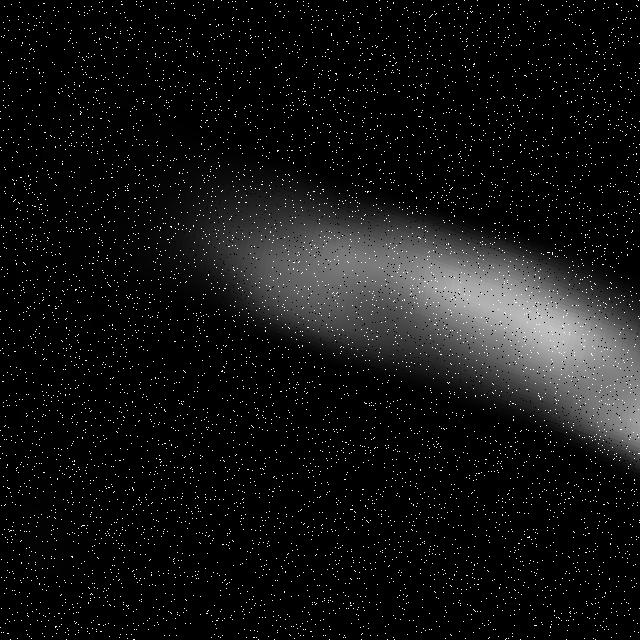person: (94, 87, 640, 518)
